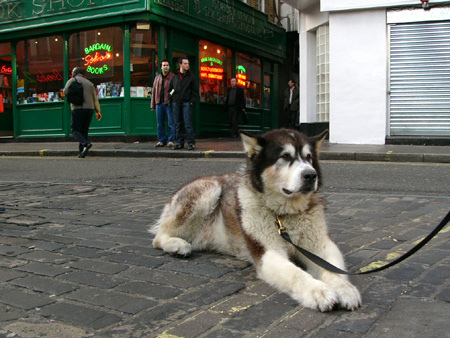dog: (146, 129, 362, 312)
